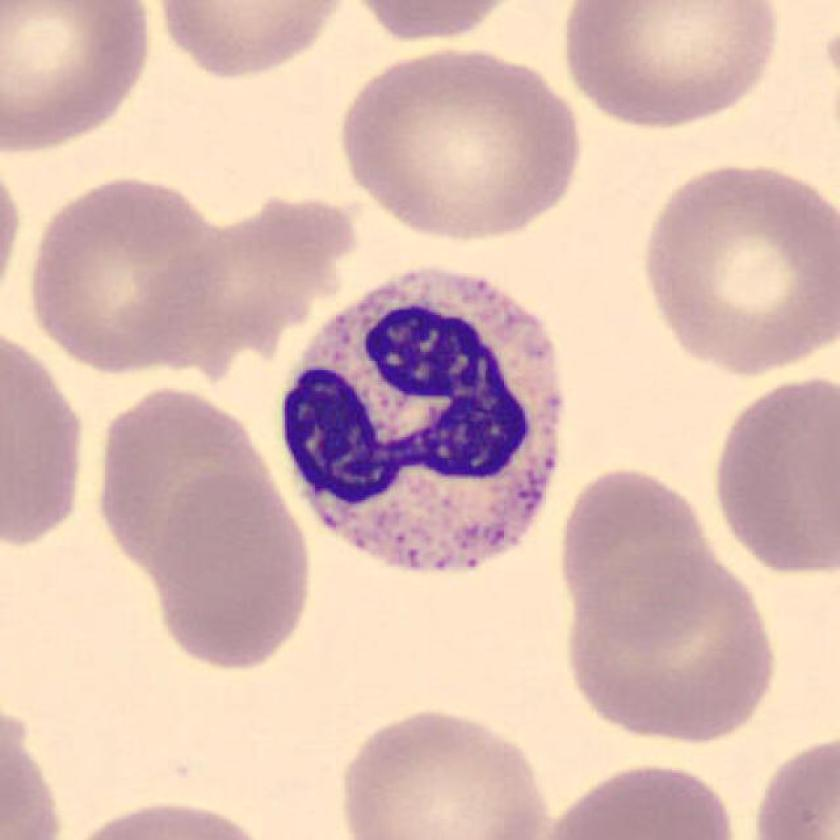neutrophil: (285, 271, 564, 576)
